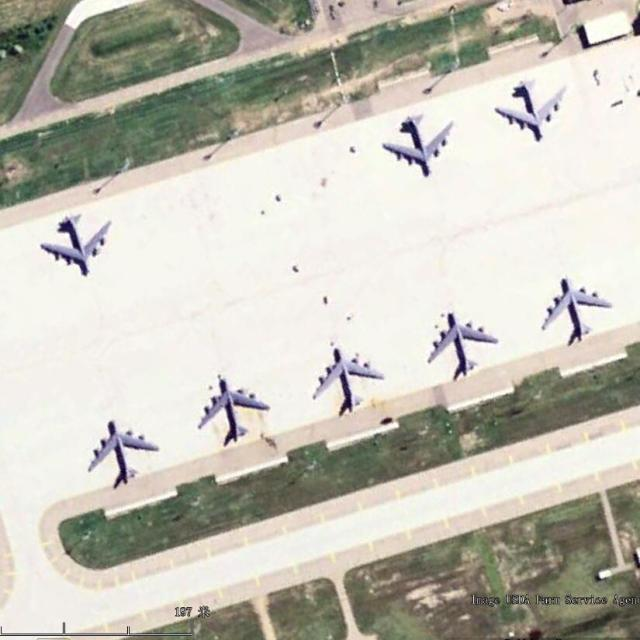fighter jet: (422, 305, 498, 377), (197, 374, 263, 450), (39, 215, 116, 279), (316, 342, 380, 419), (79, 424, 154, 489), (496, 76, 568, 142), (380, 114, 448, 178), (538, 272, 603, 336)
